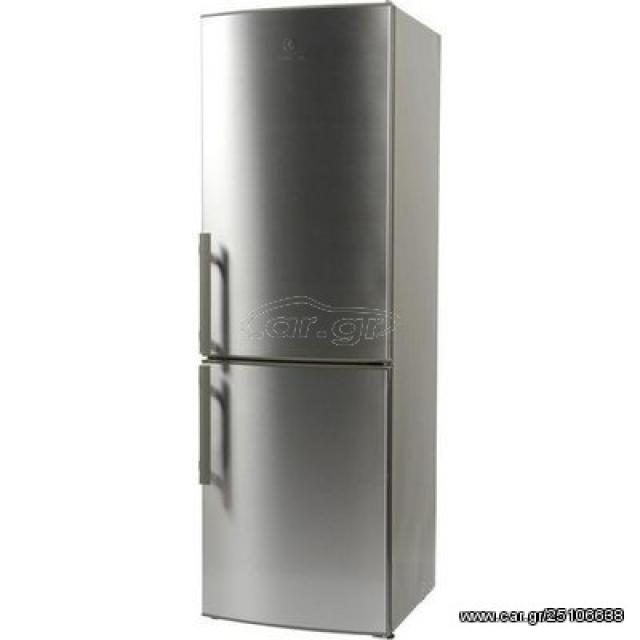refrigerator: (197, 3, 397, 640)
